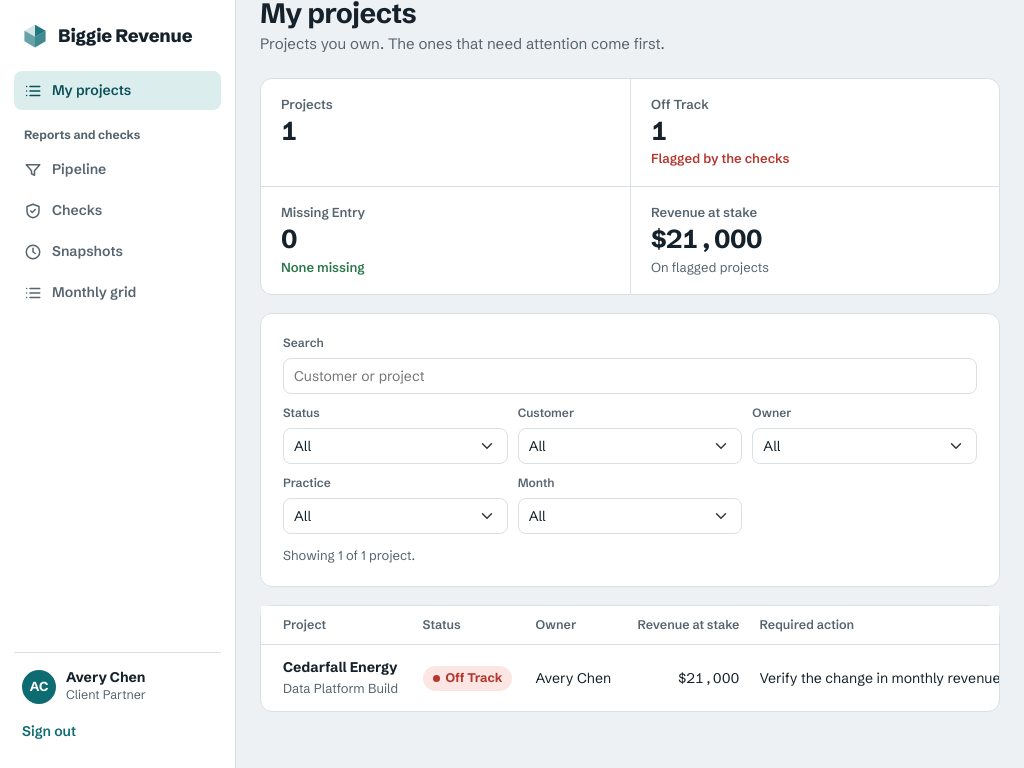
Scenario: Project page › saves an edit with the previous value, then the graph follows the backend’s new value
The width and height of the screenshot is (1024, 768).
(page scrolled)
Click the row named "Open Cedarfall Energy": (340,667) [261,645,1023,711]
(page scrolled)
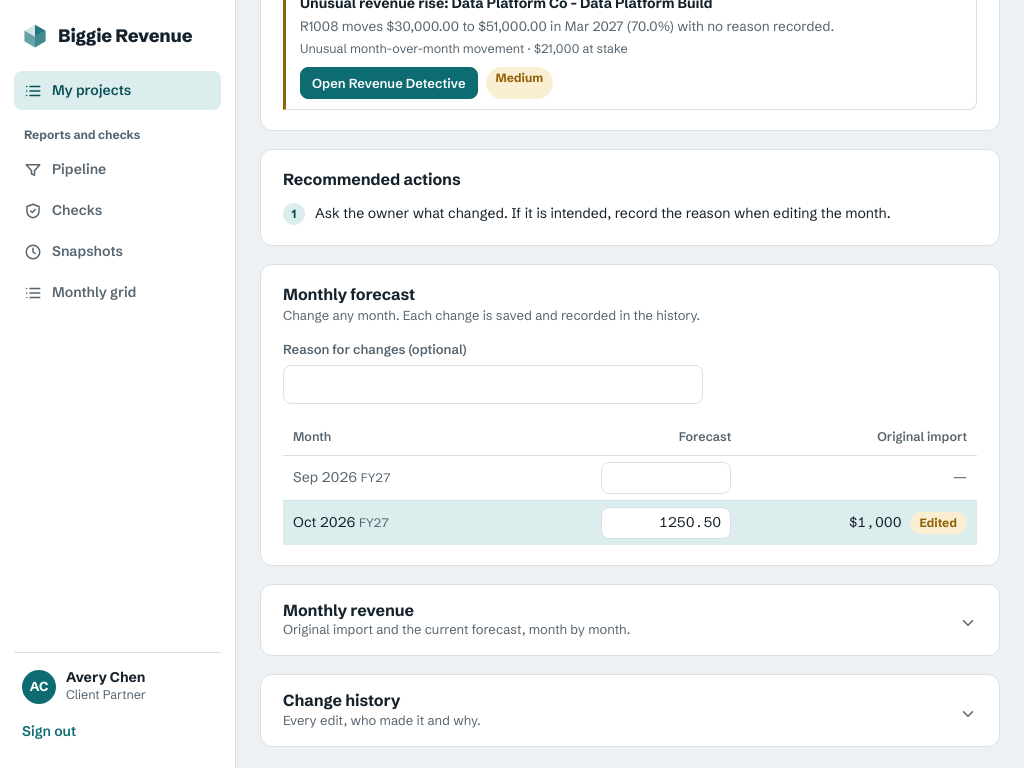
expect the heading "Monthly forecast" is shown: met, box [283,284,415,304]
In the field labelled "Reason for changes (optional)": (493,384) [283,365,703,404], type "Client added scope"
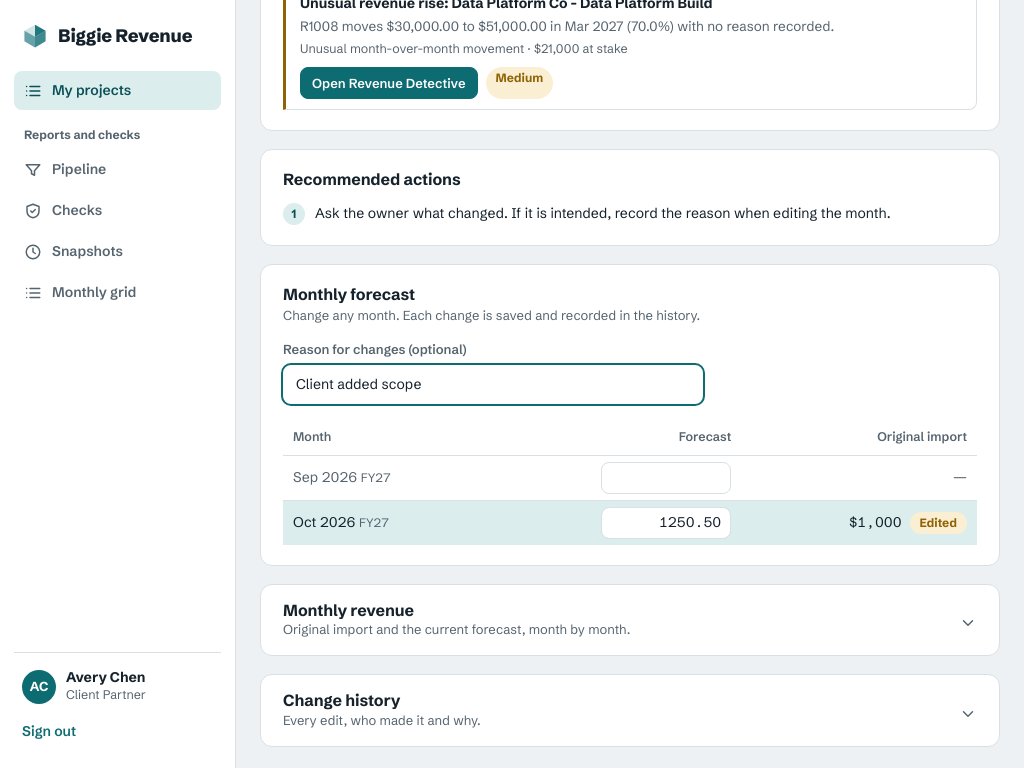
Replace the text in the field named "Revenue for Oct 2026" with "1500": (666,523) [601,507,731,539]
Then press Enter
(page scrolled)
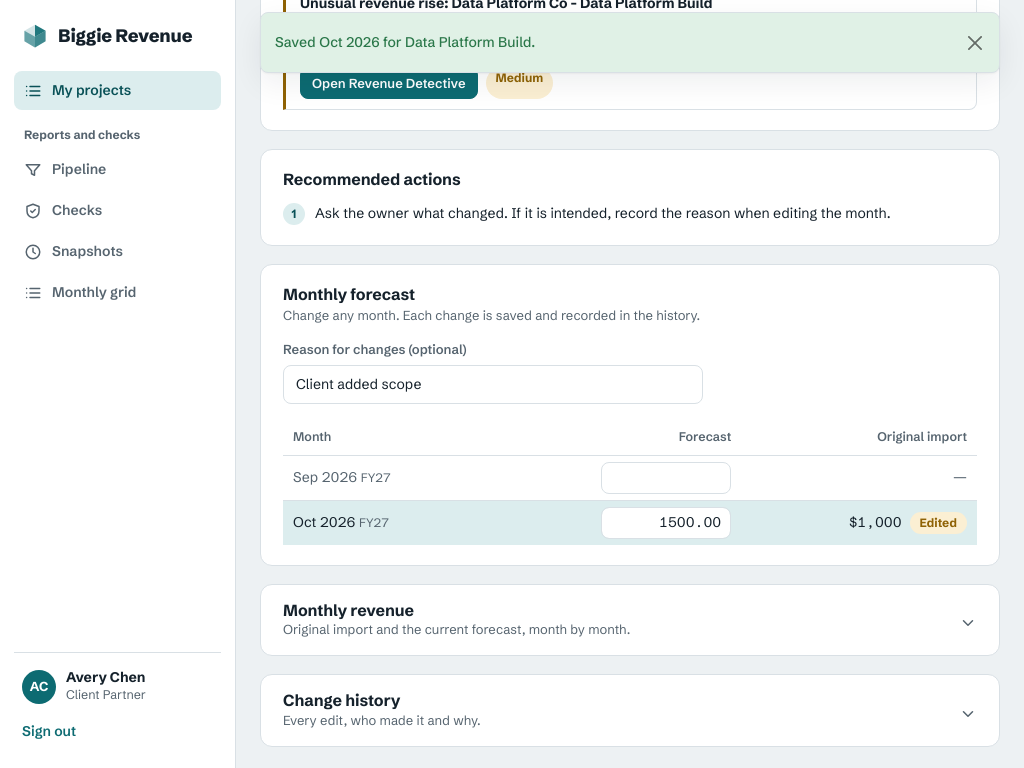
expect the text "Saved Oct 2026 for Data Platform Build." is shown: met, box [275,32,535,53]
